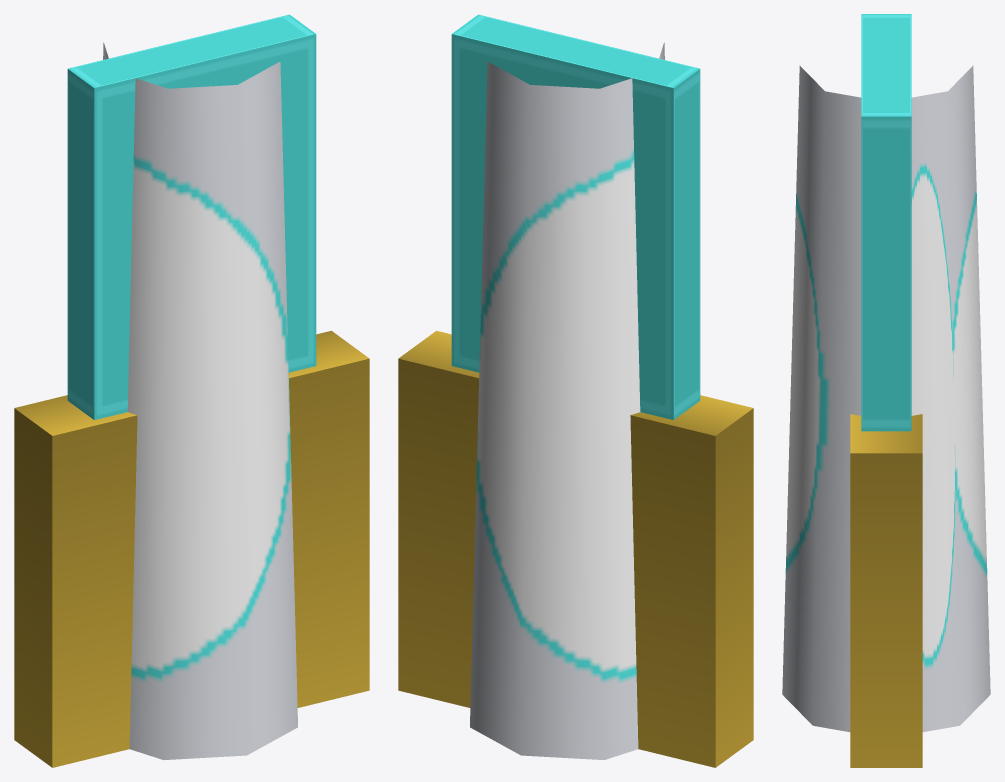
File: PRP_Mirror_Frame.glb
3 views of the same model, side by side, from view 1: azimuth 30°, elevation 25°; view 2: azimuth 150°, elevation 25°; view 3: azimuth 270°, elevation 25° (orthographic). The views are drawn at different scales.
Parts seen in each view (by area): view 1: PRP_Mirror_Frame; view 2: PRP_Mirror_Frame; view 3: PRP_Mirror_Frame.
Boxes of the visible parts, x1,y1,x2,y2 form: PRP_Mirror_Frame: (14,14,369,767); PRP_Mirror_Frame: (398,14,753,767); PRP_Mirror_Frame: (782,14,990,767).
Size of the model in its own units: 1.2 by 2.4 by 0.72.
Materials: 1 (1 with a texture image).
